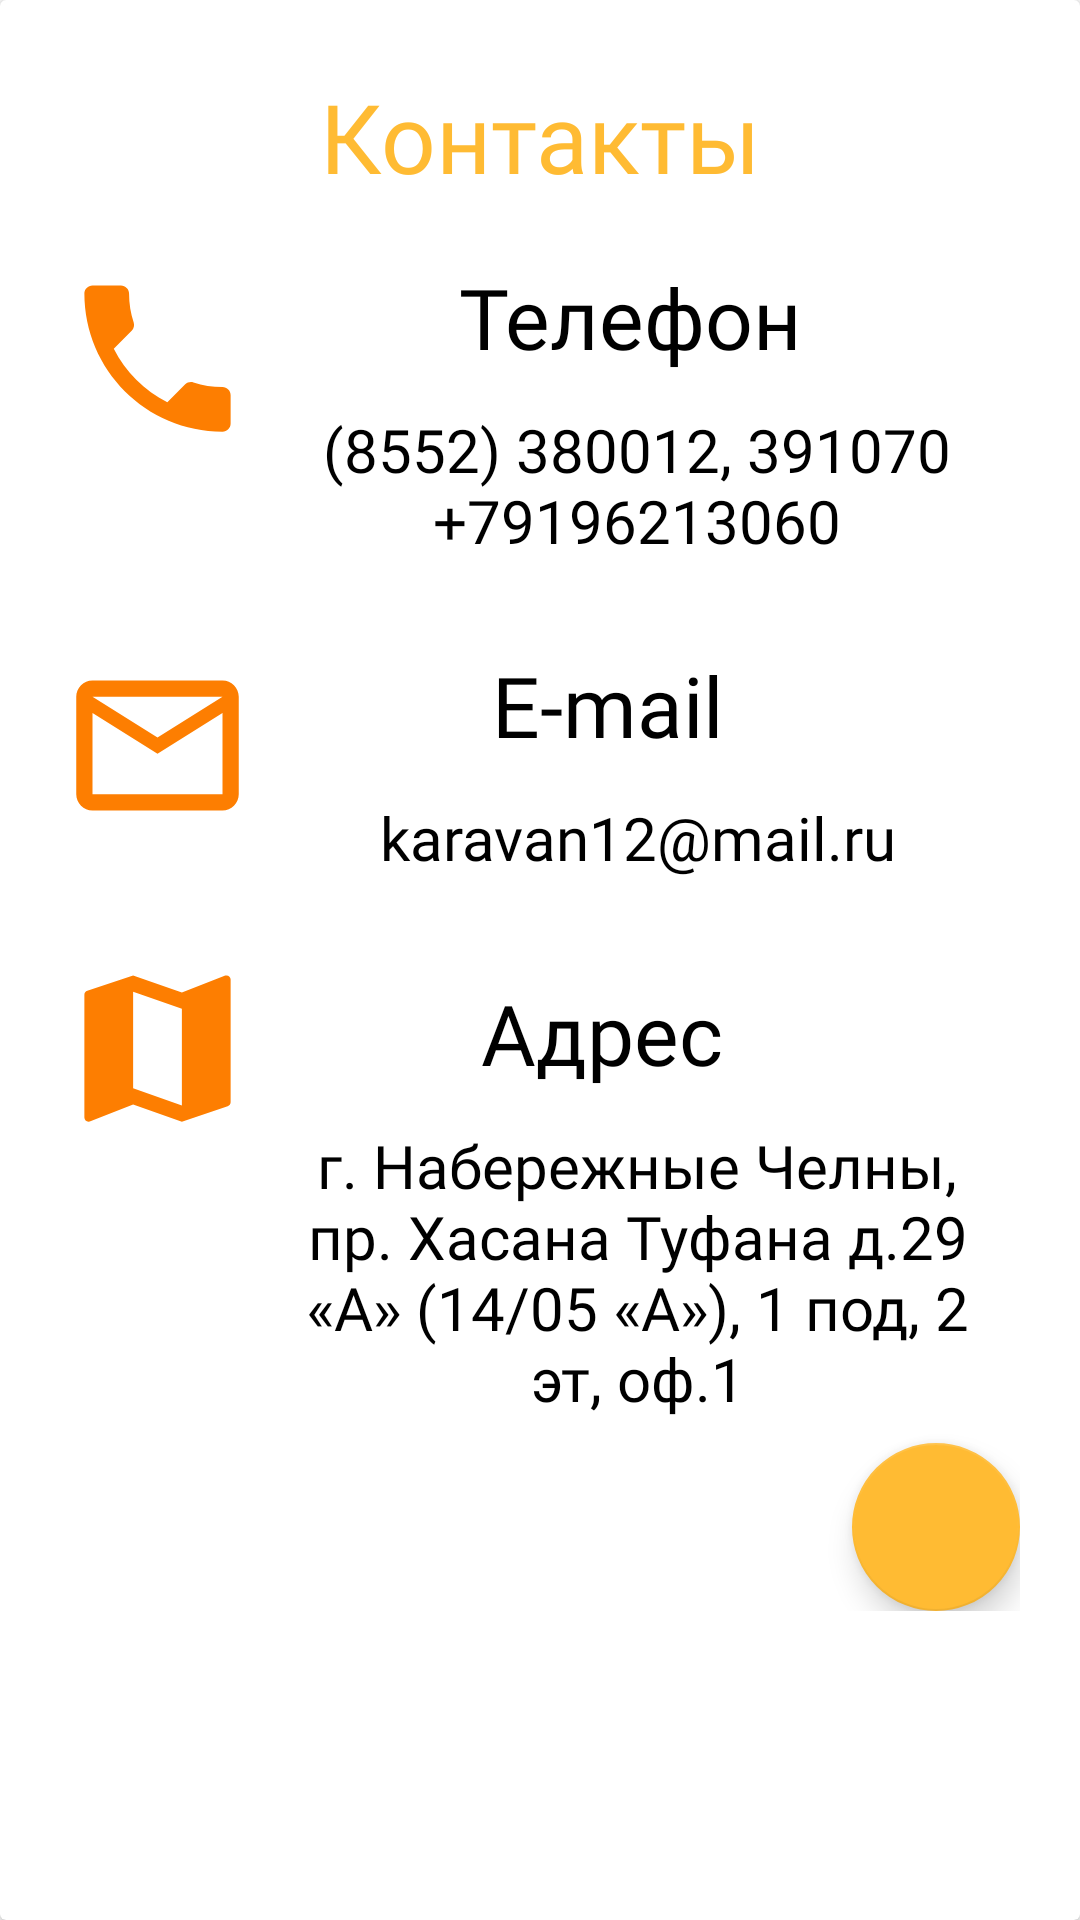

Icons on this 1080×1920 Android screen, each with its box as (x1, y1, x2, y2):
email: (76, 680, 239, 811)
map: (84, 975, 231, 1122)
phone: (84, 285, 231, 432)
